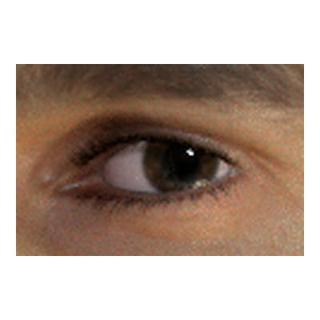pupil: (164, 144, 198, 178)
